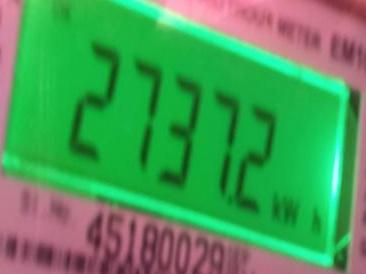.: (265, 190, 328, 237)
0: (224, 192, 234, 209)
3: (57, 36, 120, 160), (232, 101, 277, 211)
4: (155, 75, 204, 187)
8: (119, 59, 162, 181), (198, 92, 238, 196)
